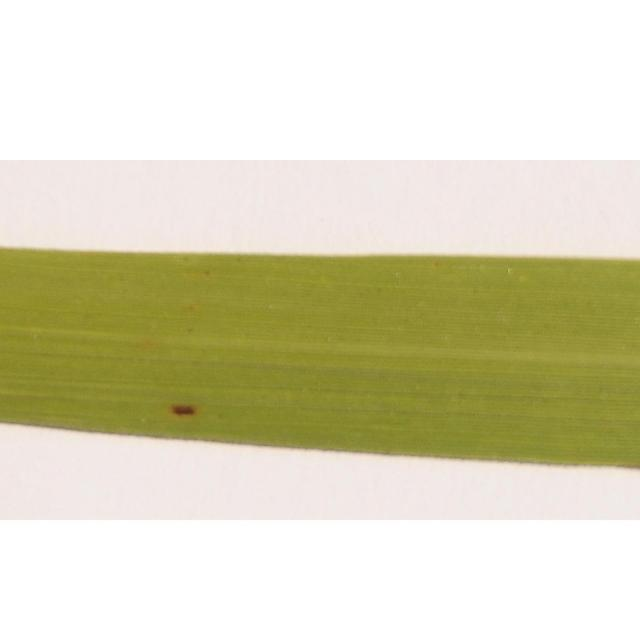Brown spot: (155, 388, 222, 424)
